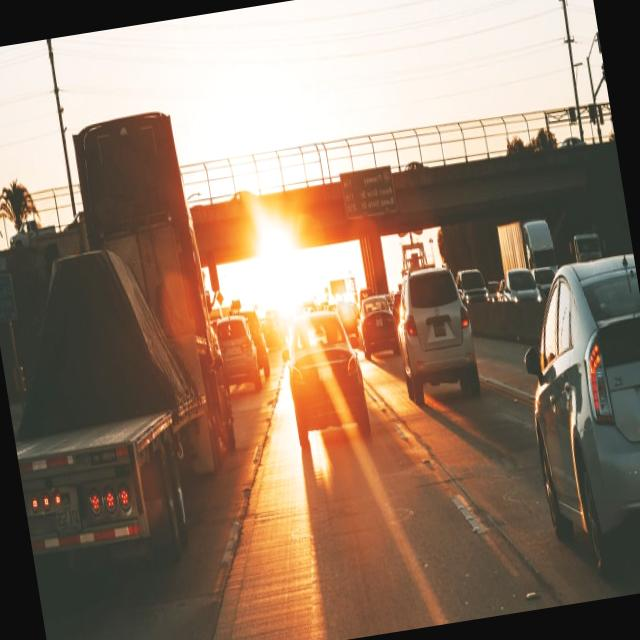Vehicle: (0, 93, 254, 590), (496, 226, 640, 578), (388, 256, 489, 415), (276, 300, 372, 455), (218, 317, 265, 400), (356, 284, 396, 362)
